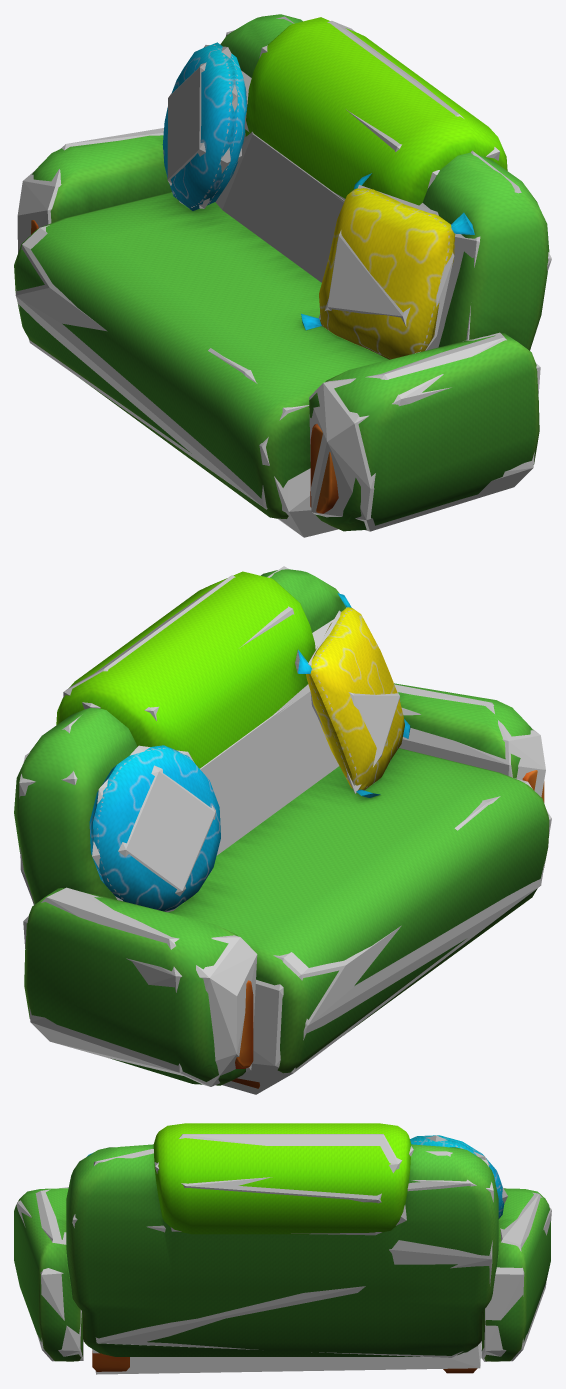
The model's file is SM_Sofa01.fbx.
The picture shows the model from 3 angles, top to bottom: view 1: azimuth 30°, elevation 25°; view 2: azimuth 150°, elevation 25°; view 3: azimuth 270°, elevation 25°; orthographic projection. The views are drawn at different scales.
Visible parts, largest first — view 1: SM_Sofa01, SM_Sofa01_ConvexHulls; view 2: SM_Sofa01, SM_Sofa01_ConvexHulls; view 3: SM_Sofa01, SM_Sofa01_ConvexHulls.
Part boxes in pixels (left/top/right/bottom): SM_Sofa01: left=14, top=14, right=549, bottom=531; SM_Sofa01_ConvexHulls: left=15, top=16, right=551, bottom=537; SM_Sofa01: left=14, top=569, right=549, bottom=1088; SM_Sofa01_ConvexHulls: left=19, top=566, right=551, bottom=1094; SM_Sofa01: left=14, top=1123, right=550, bottom=1373; SM_Sofa01_ConvexHulls: left=16, top=1134, right=551, bottom=1374.
Size of the model in its own units: 111 by 216 by 115.
Materials: 2 (1 with a texture image).
